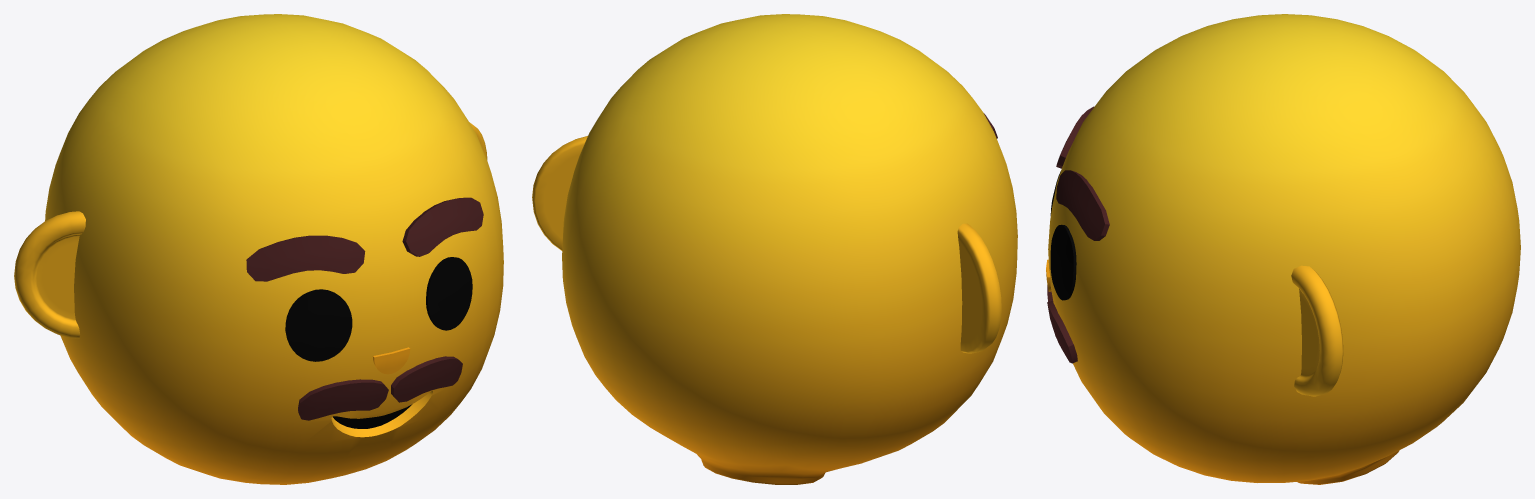
File: man_bald.gltf
The picture shows the model from 3 angles, left to right: view 1: azimuth 30°, elevation 25°; view 2: azimuth 150°, elevation 25°; view 3: azimuth 270°, elevation 25°; orthographic projection.
Parts seen in each view (by area): view 1: Roundcube.013, Circle.329, Circle.327, ears.014, Circle.359, Circle.328; view 2: Roundcube.013, ears.014; view 3: Roundcube.013, ears.014, Circle.329, Circle.327, Circle.359.
Part boxes in pixels (x1,y1,x2,y2): Roundcube.013: (45, 14, 503, 484); Circle.329: (246, 197, 483, 281); Circle.327: (285, 257, 472, 361); ears.014: (14, 122, 487, 338); Circle.359: (298, 356, 462, 420); Circle.328: (373, 347, 410, 374); Roundcube.013: (562, 14, 1017, 484); ears.014: (532, 136, 1001, 353); Roundcube.013: (1048, 14, 1520, 484); ears.014: (1291, 265, 1343, 396); Circle.329: (1056, 106, 1109, 240); Circle.327: (1050, 171, 1076, 300); Circle.359: (1047, 285, 1077, 363).
Size of the model in its own units: 1.76 by 1.52 by 1.52.
2 materials, 2 textured.
